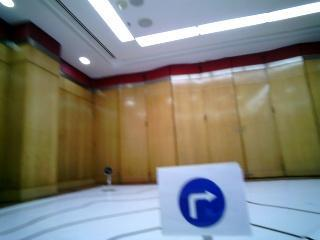right: (165, 174, 240, 228)
